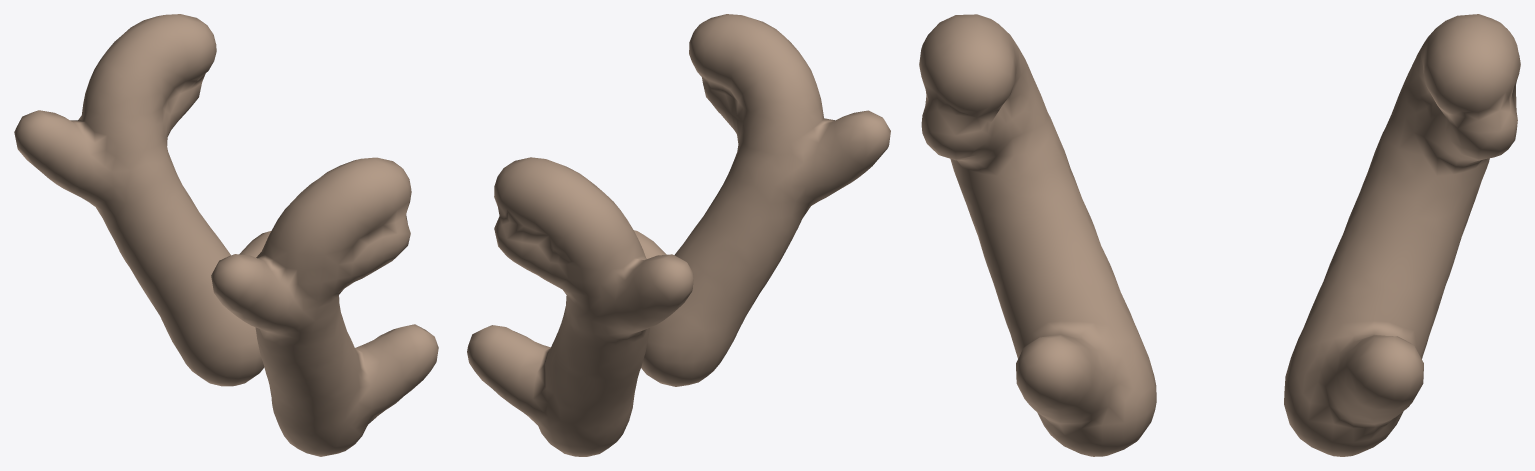
File: reindeer202_baby.glb
3 views of the same model, side by side, from view 1: azimuth 30°, elevation 25°; view 2: azimuth 150°, elevation 25°; view 3: azimuth 270°, elevation 25° (orthographic). The views are drawn at different scales.
Visible parts, largest first — view 1: horn; view 2: horn; view 3: horn.
Part boxes in pixels (left/top/right/bottom): horn: left=14, top=14, right=438, bottom=456; horn: left=467, top=14, right=890, bottom=456; horn: left=919, top=14, right=1520, bottom=456.
Bounding box in the file's own units: 0.4894 × 0.6098 × 0.7889.
